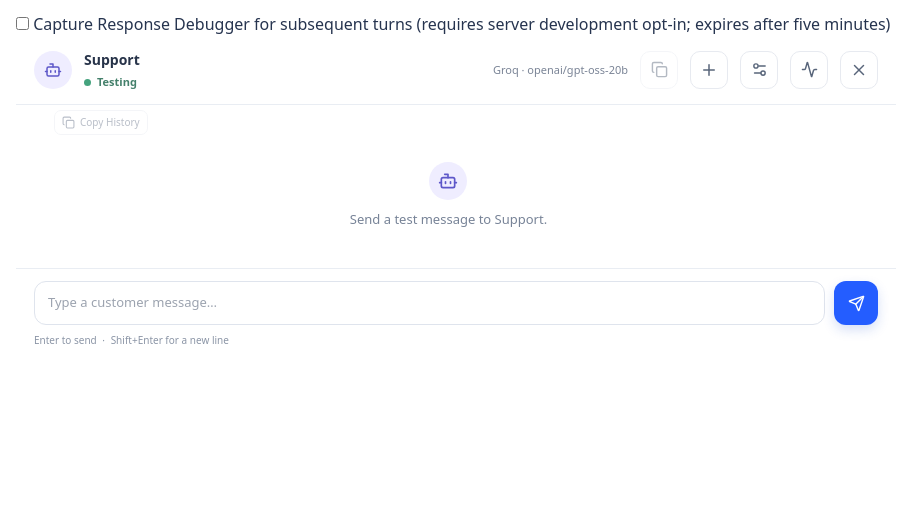
Test: PlaygroundChat › renders trusted SYSTEM_RESPONSE response provenance
Step 1. Type "Please help" into the text box named "Message your assistant" → point(430, 303), box [34,281,825,325]
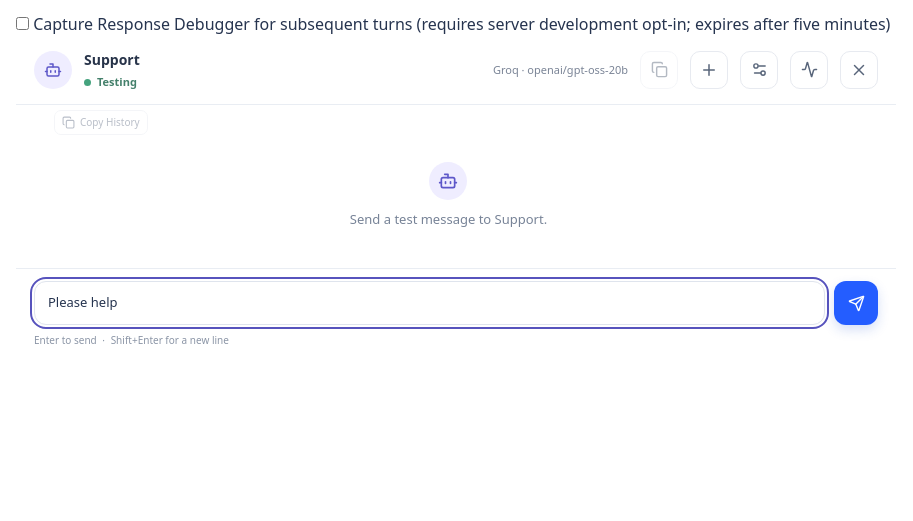
Step 2. Click the button named "Send message" → point(856, 303), box [834,281,878,325]
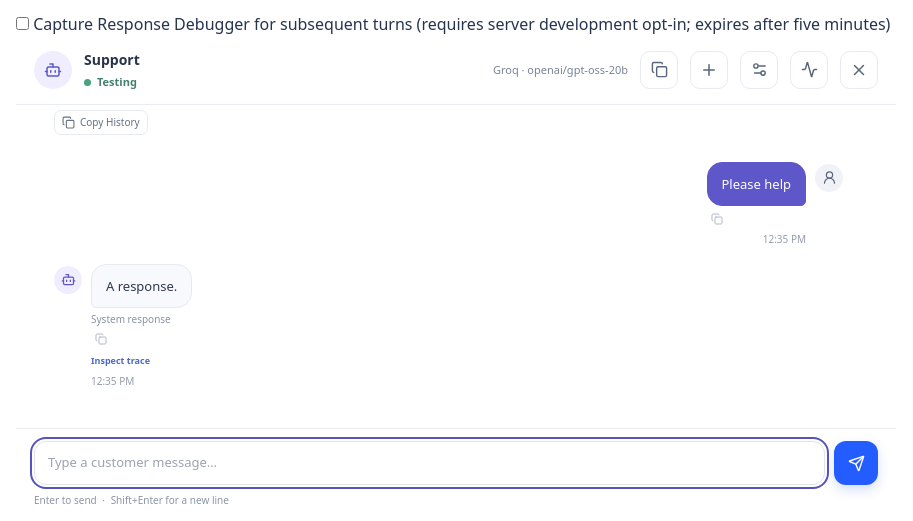
Expected: the text "System response" is shown, [91,313,171,326]
